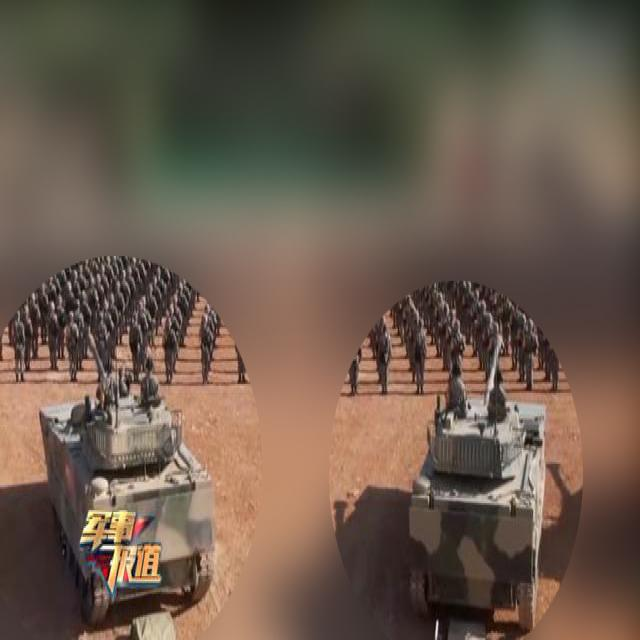tank: (33, 327, 220, 631), (407, 323, 551, 632)
